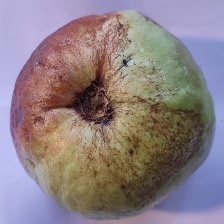guava: (42, 28, 218, 180)
